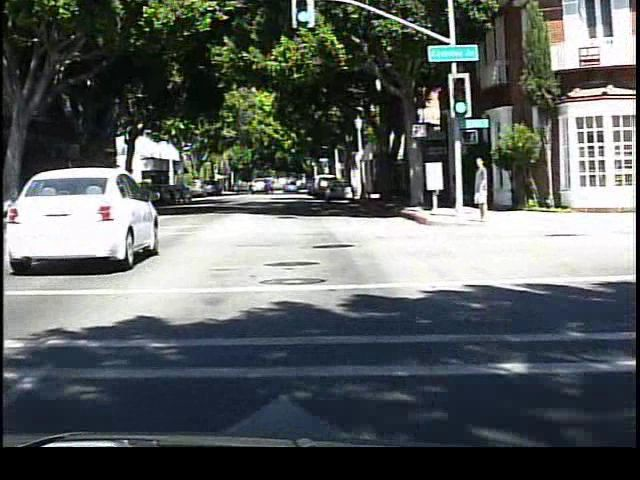person: (470, 156, 493, 224)
